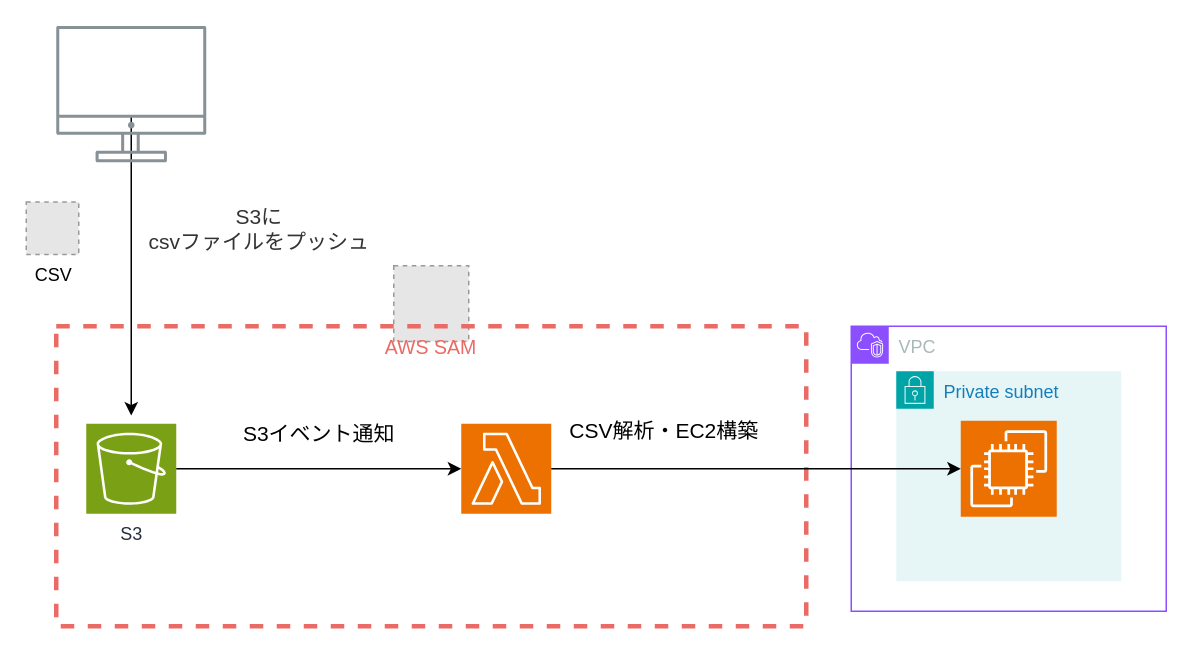
Some shapes in this 1193 by 654 pixel diagram are drawn without their labels. Grey dashed boxes stand in for pictures. Here are the shapes that lost their labels. From the top down, the centre of each, then its label:
point (131, 93): desktop
point (505, 468): Lambda
point (1008, 468): EC2
